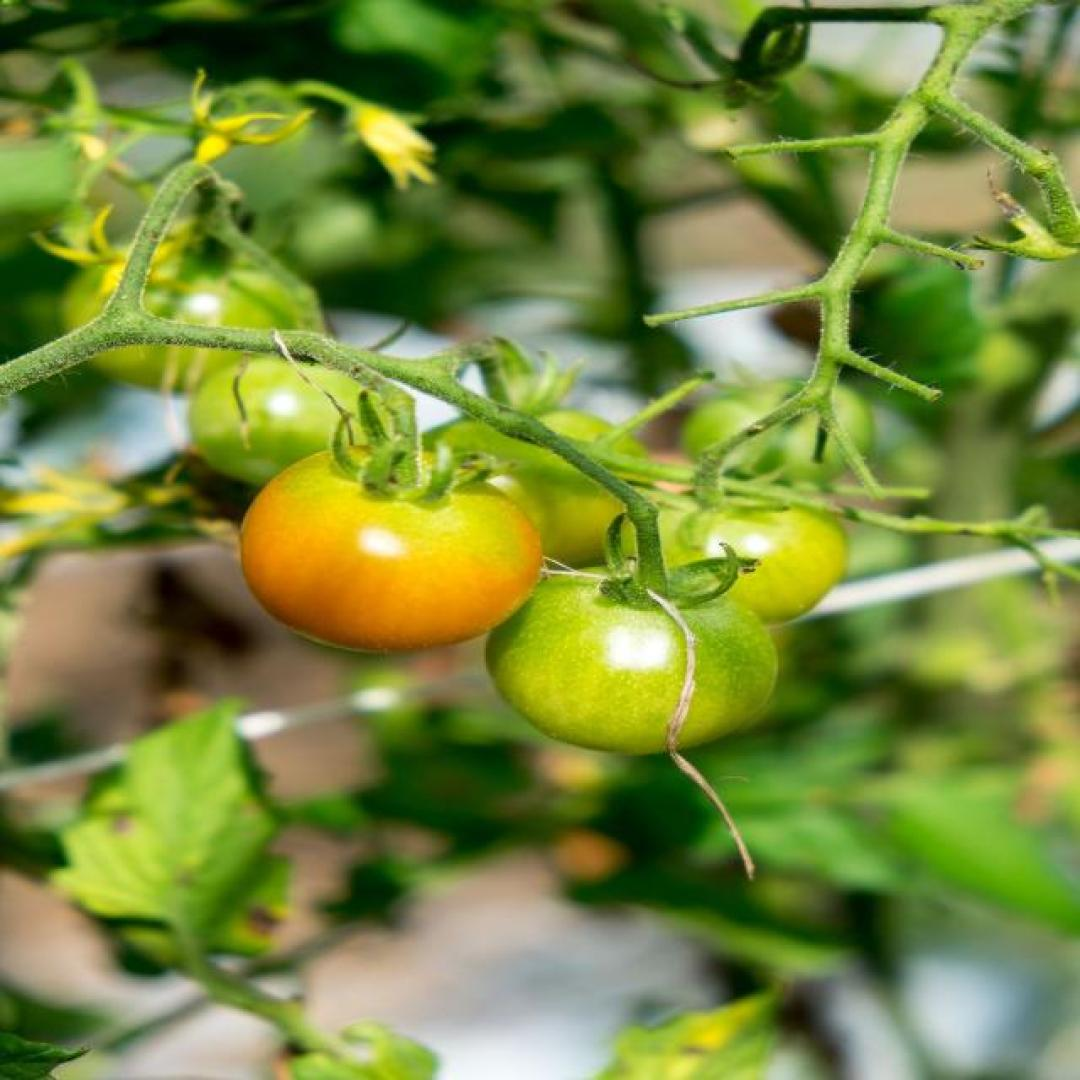mentah: (481, 555, 781, 758)
setengah_matang: (238, 442, 547, 653)
